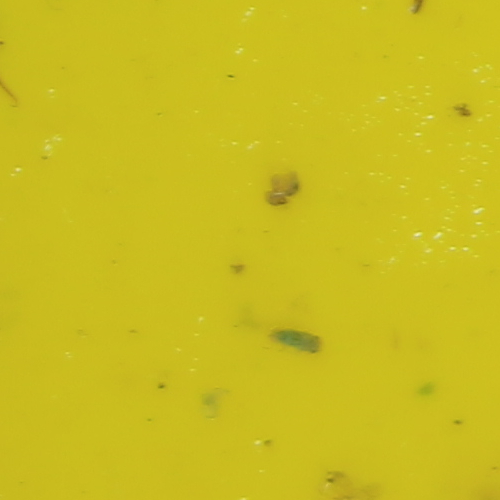psylla: (266, 328, 325, 353)
